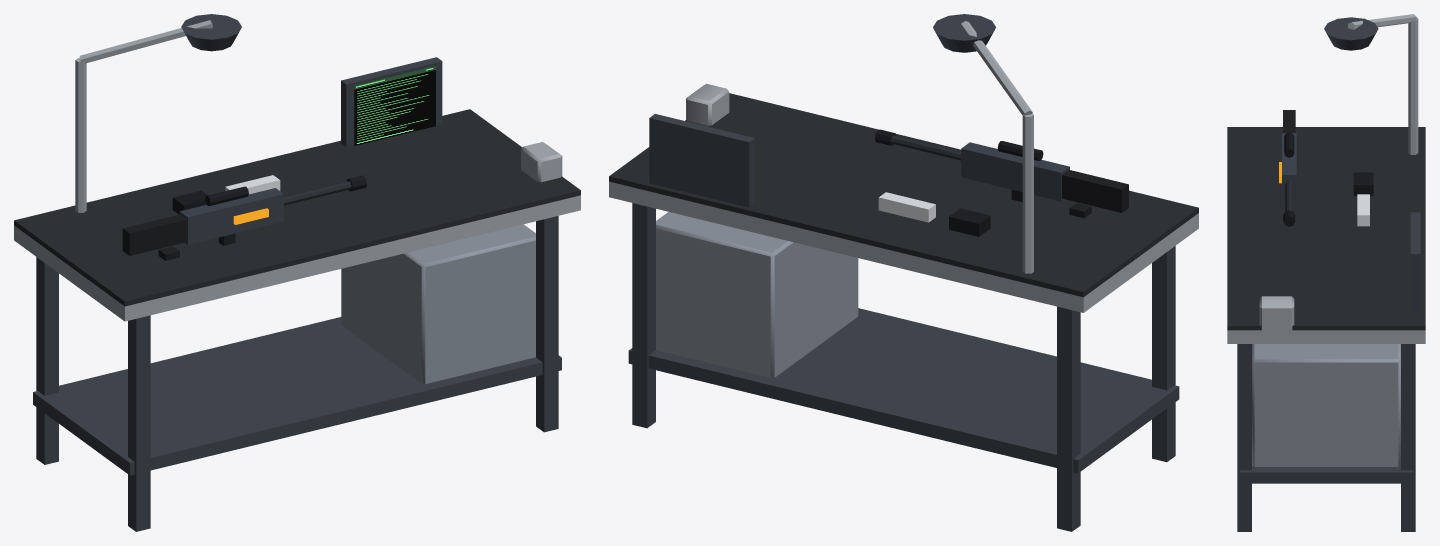
The model's file is weaponrack_weapons_inspection_bench.glb.
3 renders of one model, left to right at view 1: azimuth 30°, elevation 25°; view 2: azimuth 150°, elevation 25°; view 3: azimuth 270°, elevation 25°, orthographic. The views are drawn at different scales.
Parts seen in each view (by area): view 1: weaponrack_weapons_inspection_bench; view 2: weaponrack_weapons_inspection_bench; view 3: weaponrack_weapons_inspection_bench.
Part boxes in pixels (x1=…): weaponrack_weapons_inspection_bench: x1=14, y1=14, x2=580, y2=531; weaponrack_weapons_inspection_bench: x1=609, y1=14, x2=1198, y2=531; weaponrack_weapons_inspection_bench: x1=1227, y1=14, x2=1425, y2=531.
Size of the model in its own units: 1.9 by 1.72 by 0.8.
12 materials, 1 textured.
